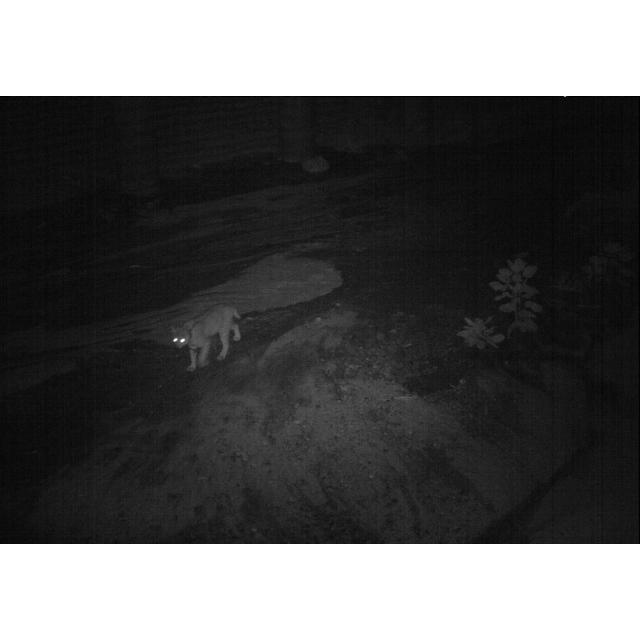animals: (170, 300, 248, 378)
